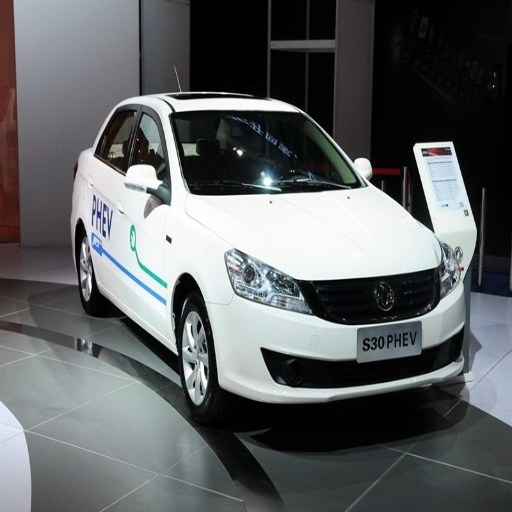front_bumper: (208, 267, 468, 403)
front_right_door: (113, 105, 172, 333)
front_right_light: (224, 249, 310, 312)
hood: (191, 187, 443, 279)
